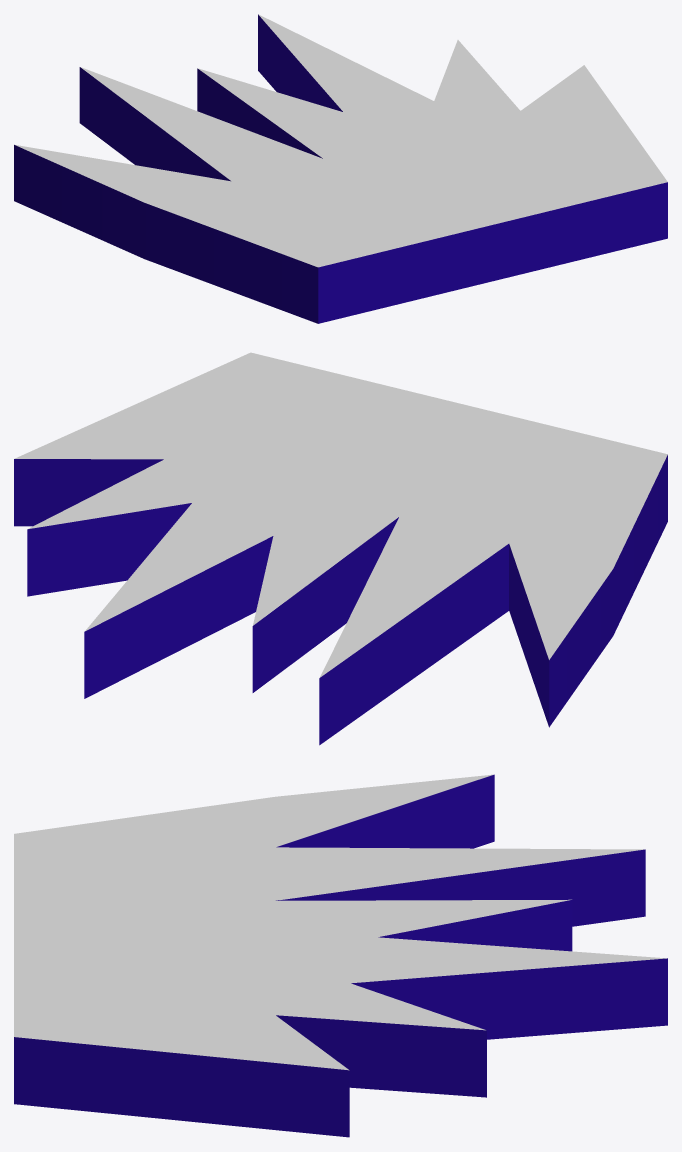
File: Sixspikes_Crown.fbx
3 renders of one model, top to bottom at view 1: azimuth 30°, elevation 25°; view 2: azimuth 150°, elevation 25°; view 3: azimuth 270°, elevation 25°, orthographic. The views are drawn at different scales.
Parts seen in each view (by area): view 1: pCube1; view 2: pCube1; view 3: pCube1.
Boxes of the visible parts, x1,y1,x2,y2 form: pCube1: (14, 14, 667, 323); pCube1: (14, 352, 667, 745); pCube1: (14, 774, 667, 1137).
Size of the model in its own units: 3.68 by 0.3898 by 3.44.
